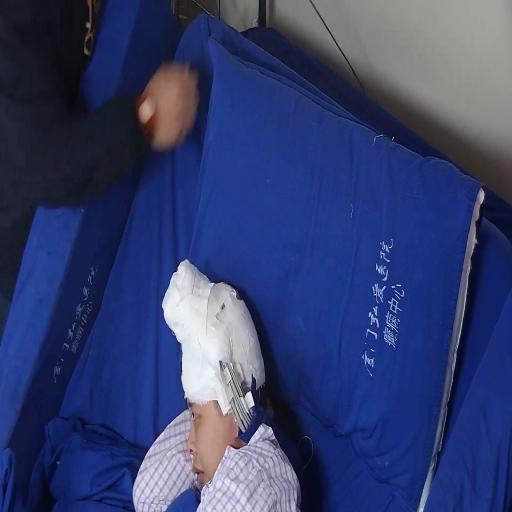Seizure: (180, 363, 260, 488)
